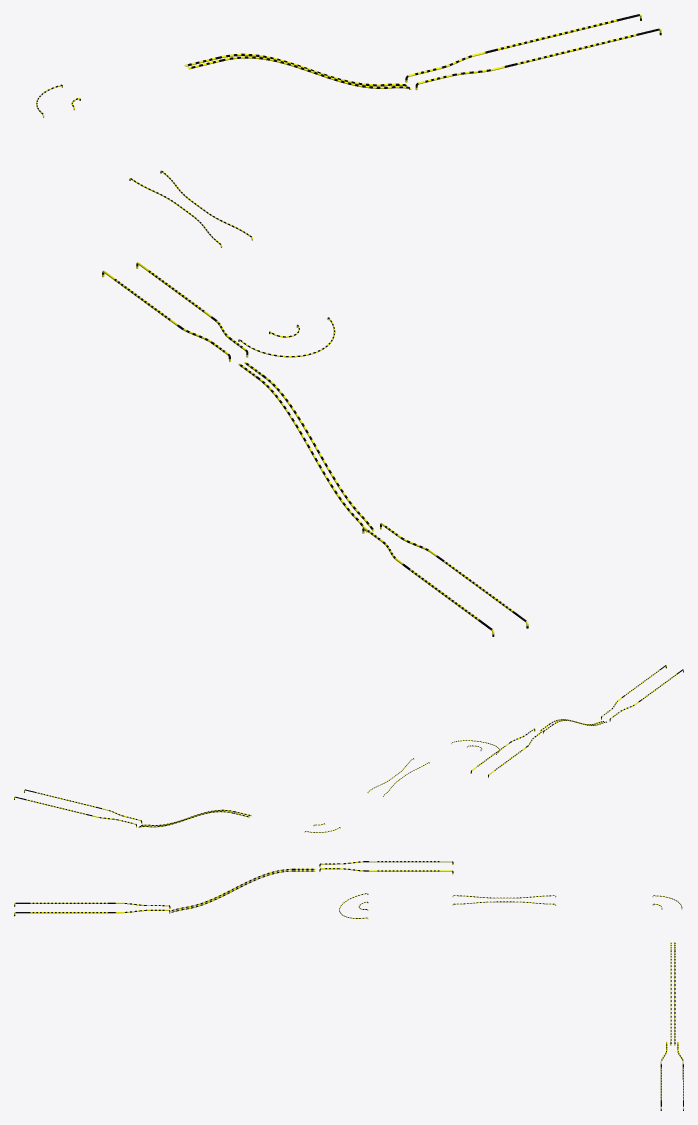
The model's file is rod_999 (1).FBX.
3 views of the same model, one above another, from view 1: azimuth 30°, elevation 25°; view 2: azimuth 150°, elevation 25°; view 3: azimuth 270°, elevation 25° (orthographic). The views are drawn at different scales.
Visible parts, largest first — view 1: rod_9, rod_9_walk; view 2: rod_9, rod_9_walk; view 3: rod_9, rod_9_walk.
Part boxes in pixels (x1,y1,x2,y2): rod_9: (36,14,661,636); rod_9_walk: (184,53,411,532); rod_9: (14,665,683,832); rod_9_walk: (138,719,607,827); rod_9: (14,861,683,1110); rod_9_walk: (171,868,675,1045).
Bounding box in the file's own units: 8938 × 964 × 12393.
